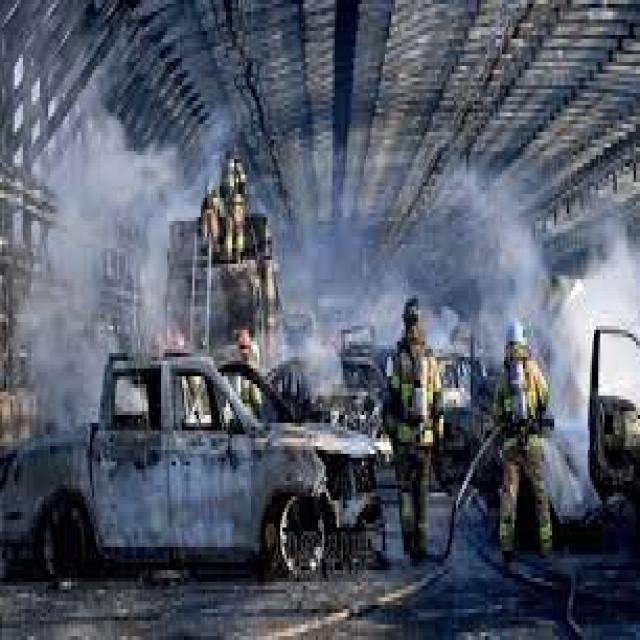Smoke: (46, 117, 166, 360), (409, 196, 536, 295), (296, 216, 404, 309), (581, 225, 640, 322)
